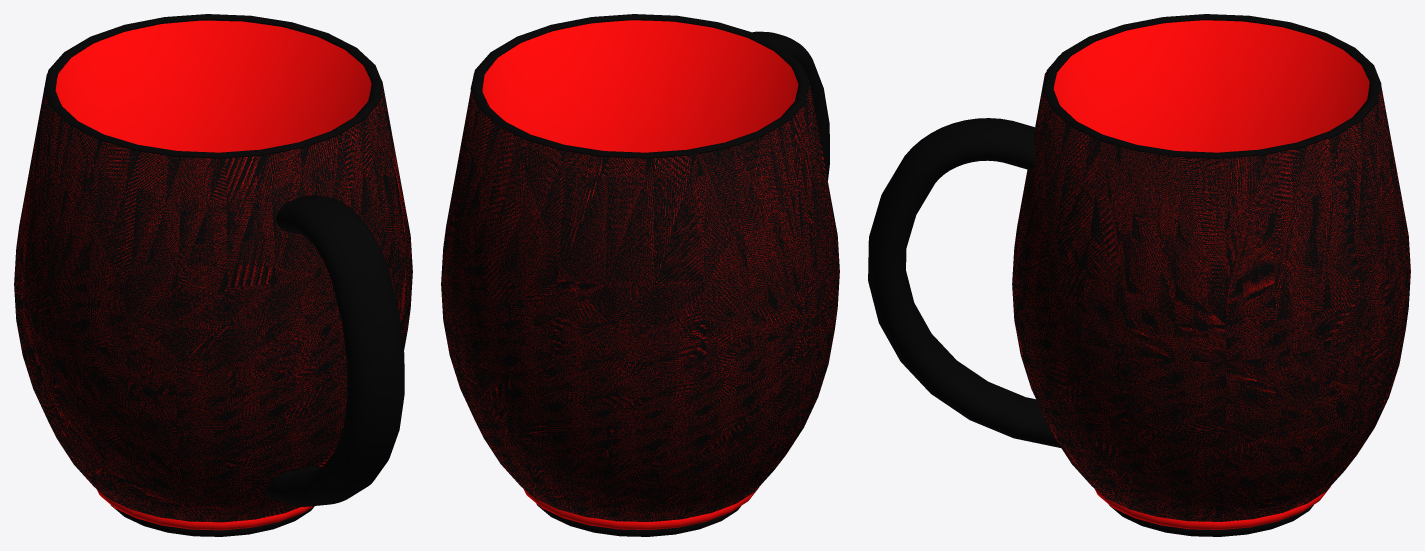
The model's file is mug_05_origin_gt_4.dae.
3 renders of one model, left to right at view 1: azimuth 30°, elevation 25°; view 2: azimuth 150°, elevation 25°; view 3: azimuth 270°, elevation 25°, orthographic.
Visible parts, largest first — view 1: group_1 (×2), group_4, group_5, group_2, group_3; view 2: group_1 (×2), group_5, group_4, group_2, group_3; view 3: group_1 (×2), group_4, group_5, group_2, group_3.
Boxes of the visible parts, left/top/right/bottom form: group_1 (×2): left=14, top=20, right=412, bottom=522; group_4: left=265, top=195, right=404, bottom=506; group_5: left=44, top=14, right=382, bottom=158; group_2: left=97, top=489, right=313, bottom=530; group_3: left=111, top=505, right=314, bottom=536; group_1 (×2): left=441, top=20, right=839, bottom=521; group_5: left=470, top=14, right=809, bottom=158; group_4: left=753, top=31, right=829, bottom=180; group_2: left=523, top=487, right=758, bottom=529; group_3: left=536, top=504, right=740, bottom=536; group_1 (×2): left=1012, top=20, right=1410, bottom=521; group_4: left=868, top=118, right=1060, bottom=447; group_5: left=1042, top=14, right=1381, bottom=158; group_2: left=1095, top=487, right=1330, bottom=529; group_3: left=1109, top=505, right=1313, bottom=536.
Size of the model in its own units: 5.08 by 6.92 by 5.75.
